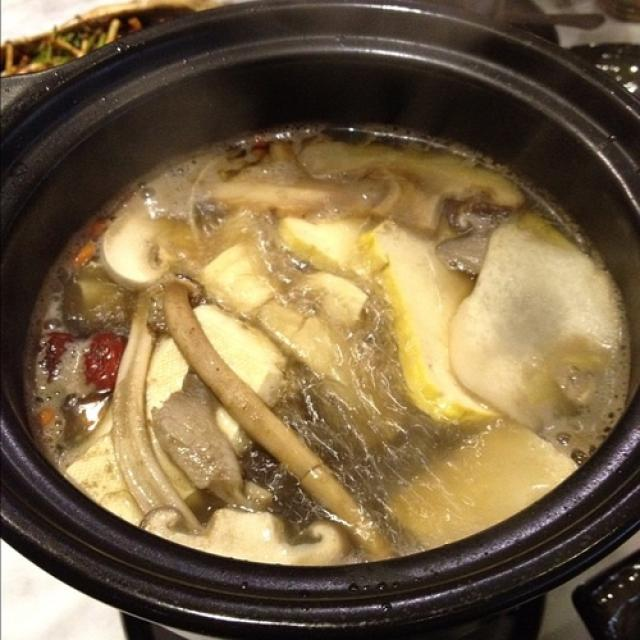汤锅炖物: (23, 39, 609, 610)
